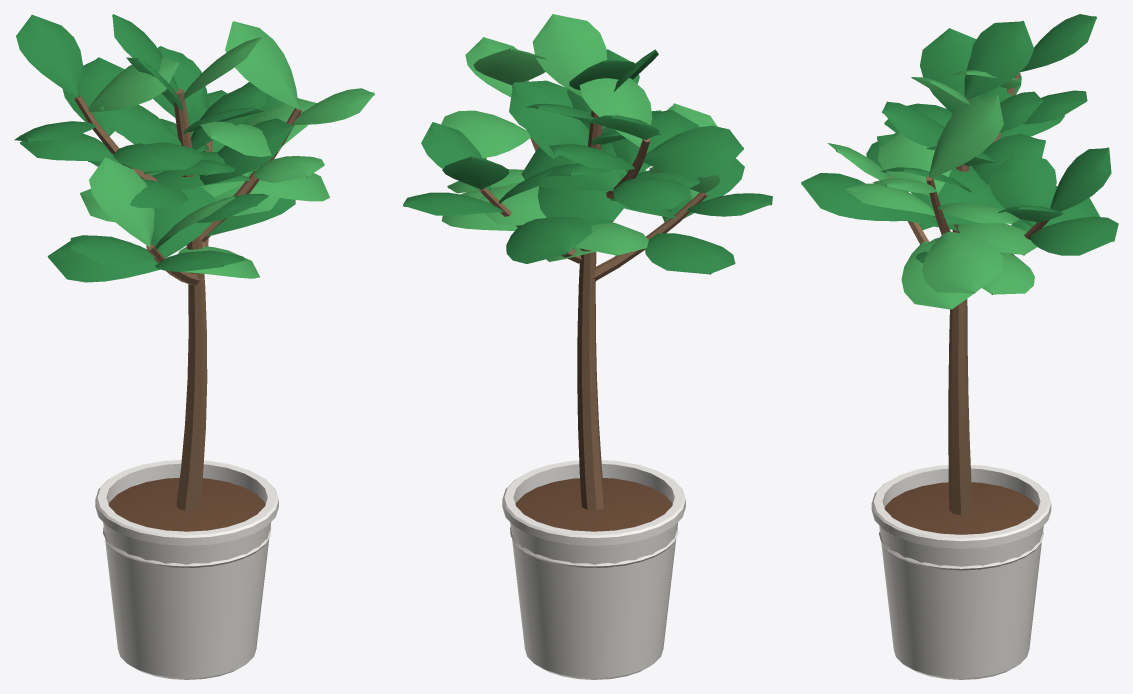
The model's file is plant_fiddle.glb.
3 renders of one model, left to right at view 1: azimuth 30°, elevation 25°; view 2: azimuth 150°, elevation 25°; view 3: azimuth 270°, elevation 25°, orthographic. The views are drawn at different scales.
Visible parts, largest first — view 1: leaf_dark, pot, leaf, bark, soil; view 2: leaf_dark, pot, leaf, bark, soil; view 3: leaf_dark, pot, leaf, bark, soil.
Boxes of the visible parts, left/top/right/bottom form: leaf_dark: left=14, top=14, right=295, bottom=282; pot: left=95, top=460, right=278, bottom=679; leaf: left=80, top=21, right=374, bottom=278; bark: left=74, top=88, right=301, bottom=510; soil: left=108, top=477, right=265, bottom=531; leaf_dark: left=403, top=49, right=772, bottom=274; pot: left=502, top=460, right=685, bottom=679; leaf: left=441, top=14, right=720, bottom=261; bark: left=479, top=86, right=707, bottom=510; soil: left=515, top=478, right=672, bottom=531; leaf_dark: left=801, top=14, right=1118, bottom=262; pot: left=871, top=465, right=1051, bottom=679; leaf: left=827, top=70, right=1037, bottom=309; bark: left=890, top=73, right=1049, bottom=515; soil: left=884, top=482, right=1038, bottom=534.
Bounding box in the file's own units: 0.8688 × 1.69 × 0.7962.
